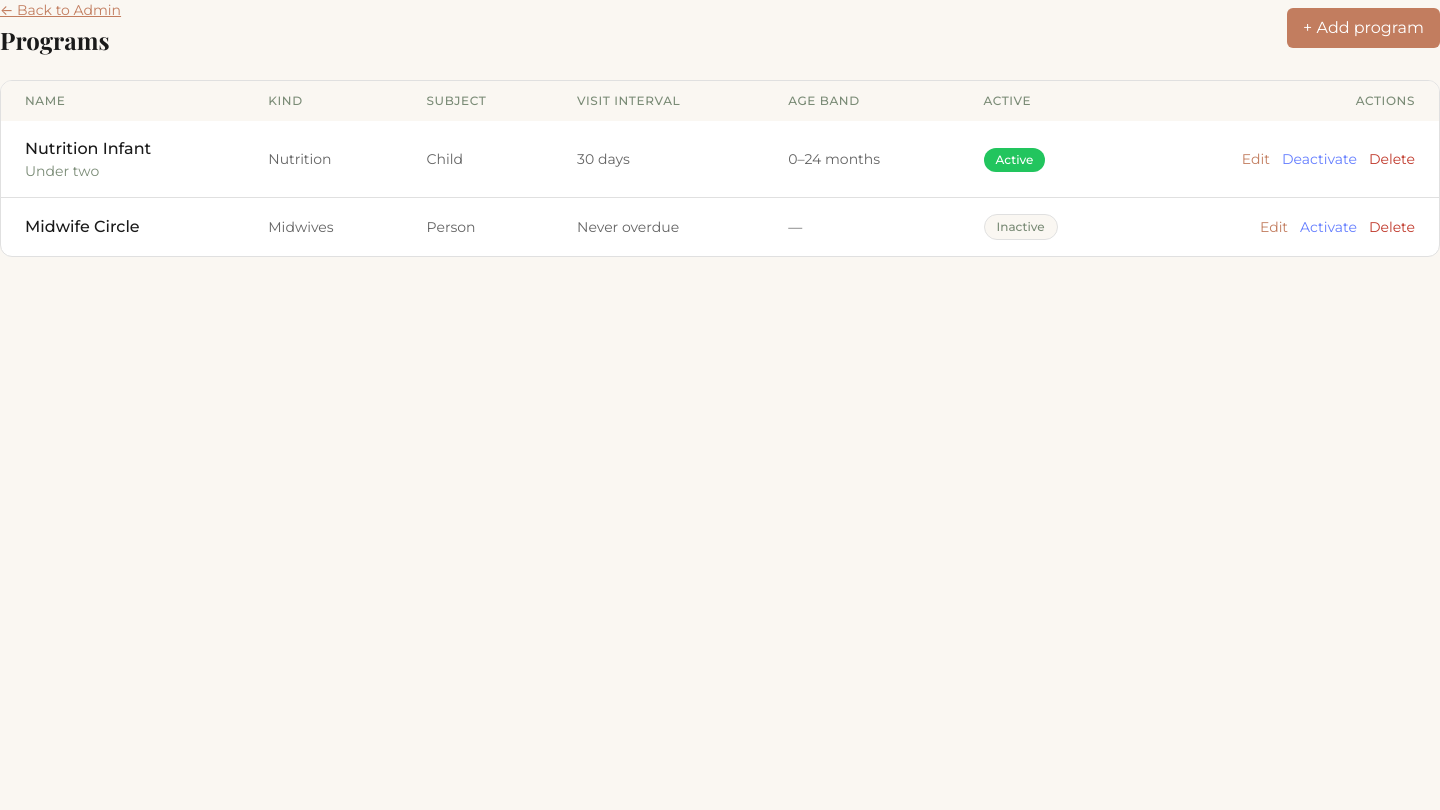
Test case: AdminProgramsPage › renders kind and subject read-only when editing
expect the table is shown: met, box [1,81,1439,256]
Click the button "Edit" in the row of "Nutrition Infant": click(1256, 159) [1242,149,1270,169]
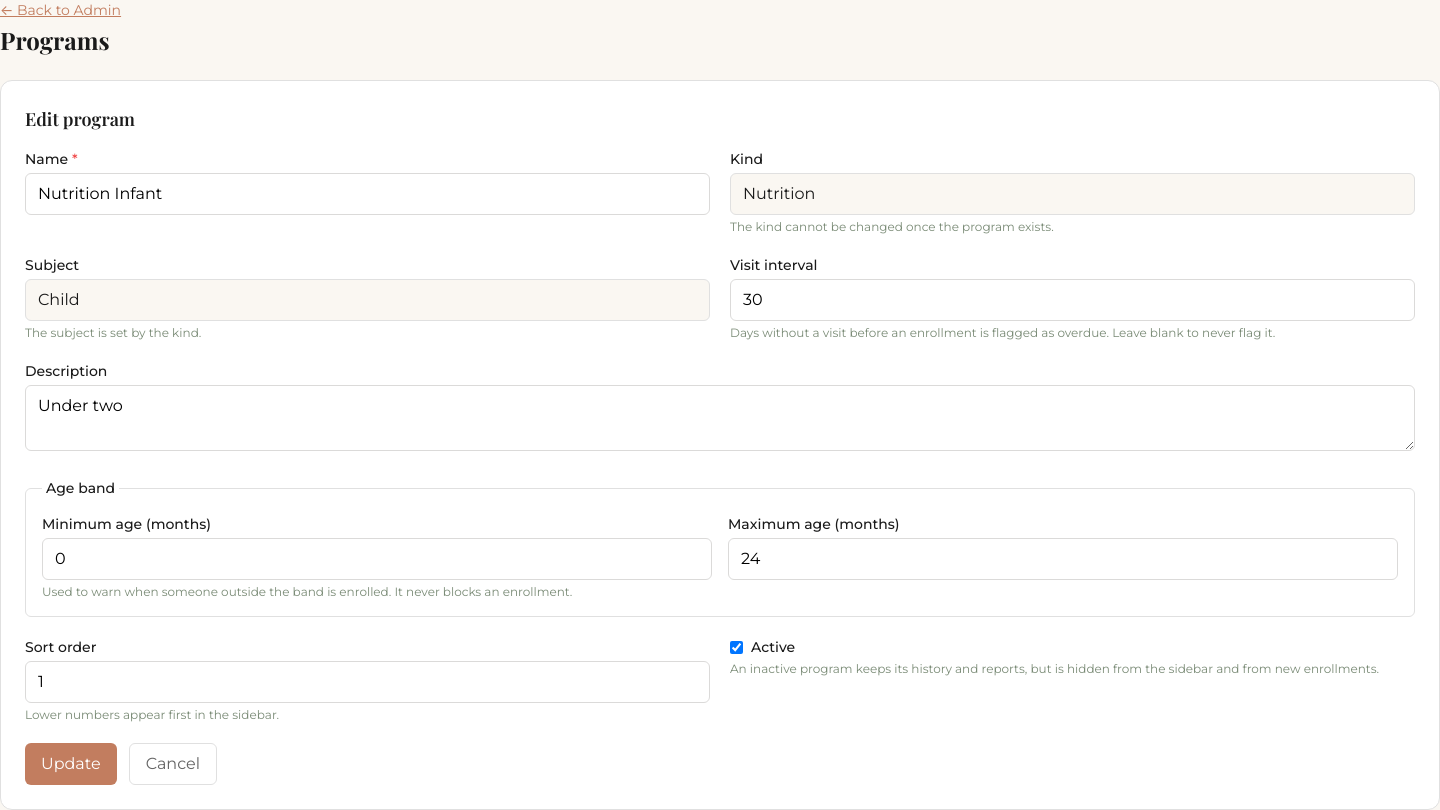
expect the text "The kind cannot be changed once the program exists." is shown: met, box [730,219,1054,234]
expect the text "The subject is set by the kind." is shown: met, box [25,325,201,340]
